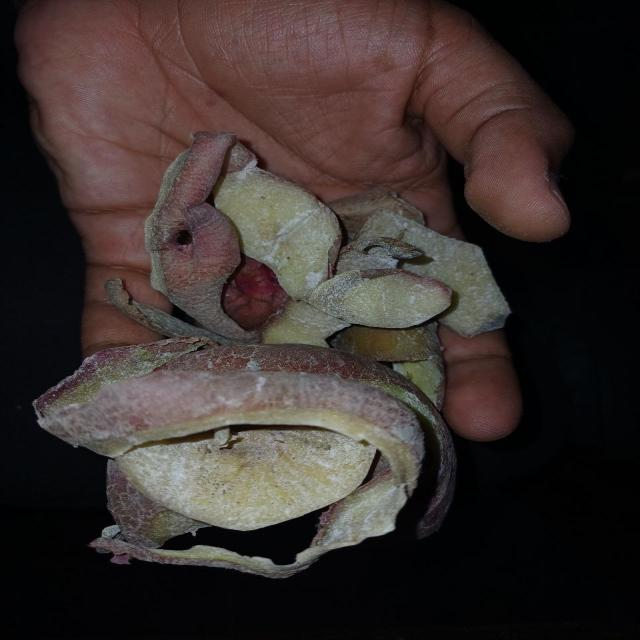organic: (30, 134, 510, 574)
